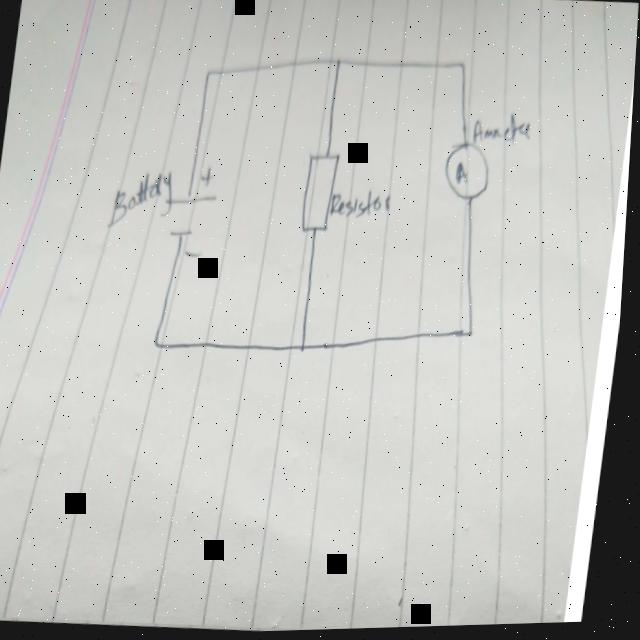junction: (455, 56, 470, 81), (467, 323, 480, 348), (153, 332, 166, 356), (300, 339, 313, 363), (202, 64, 214, 85), (332, 52, 344, 73)
resistor: (300, 149, 344, 238)
source: (160, 162, 224, 265)
text: (110, 167, 178, 232), (472, 110, 536, 151), (331, 186, 395, 225)
